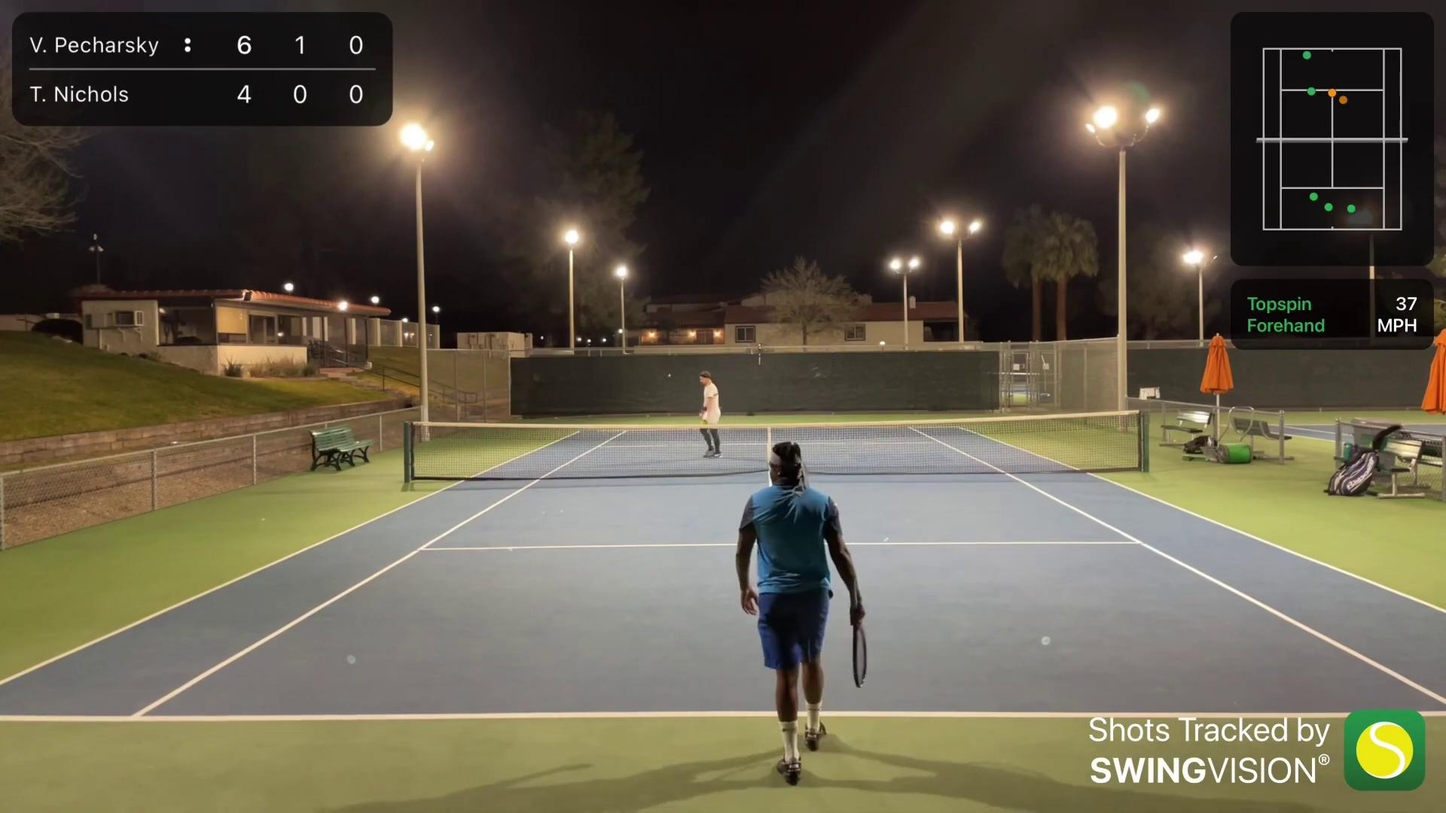ball: (667, 373, 672, 379)
